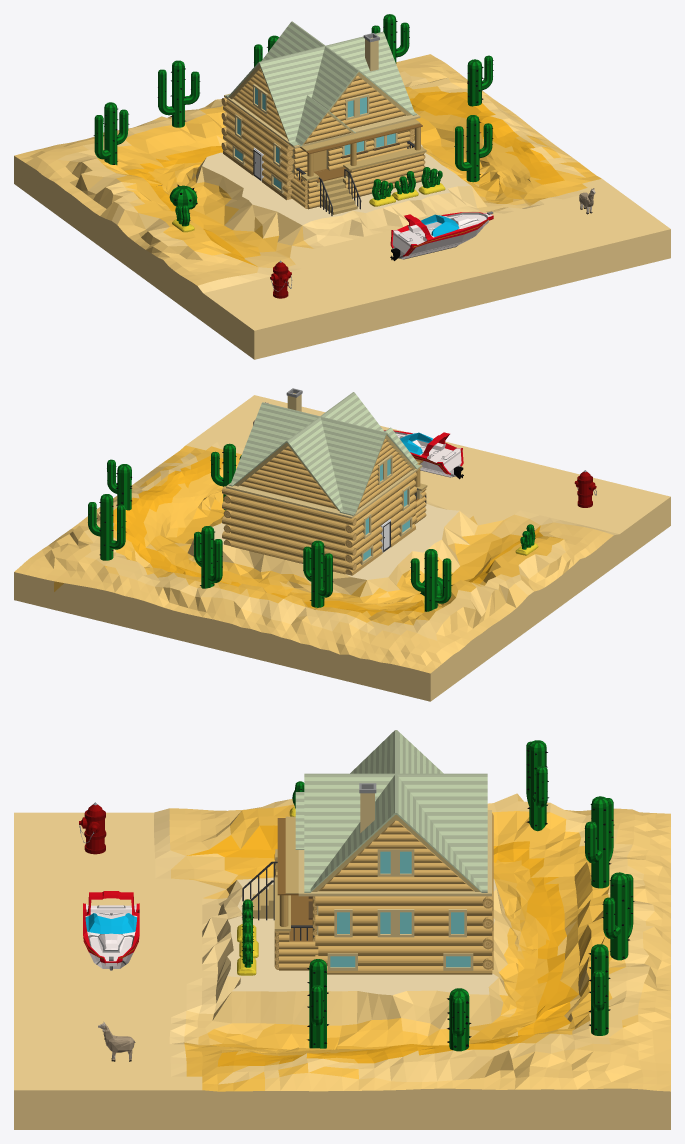
3 renders of one model, top to bottom at view 1: azimuth 30°, elevation 25°; view 2: azimuth 150°, elevation 25°; view 3: azimuth 270°, elevation 25°, orthographic. The views are drawn at different scales.
Parts seen in each view (by area): view 1: Cube.001, Cube.1516, VEHICLES_BOAT, Cylinder.037, Cylinder.044, Cylinder.045, Cylinder.038, Cylinder.042, OBJRANDOM_FIRE_HYDRANT, Cylinder.039, Cylinder.041, Sphere.023 (+1 smaller); view 2: Cube.001, Cube.1516, VEHICLES_BOAT, Cylinder.042, Cylinder.045, Cylinder.044, Cylinder.043, Cylinder.038, Cylinder.037, OBJRANDOM_FIRE_HYDRANT; view 3: Cube.001, Cube.1516, VEHICLES_BOAT, Cylinder.043, Cylinder.044, Cylinder.045, Cylinder.042, Cylinder.037, Cylinder.038, OBJRANDOM_FIRE_HYDRANT, ANIMAL_LLAMA, Cylinder.041.
Boxes of the visible parts, x1=… form: Cube.001: x1=14, y1=54, x2=670, y2=359; Cube.1516: x1=221, y1=21, x2=426, y2=215; VEHICLES_BOAT: x1=390, y1=211, x2=493, y2=260; Cylinder.037: x1=454, y1=115, x2=493, y2=182; Cylinder.044: x1=157, y1=60, x2=200, y2=127; Cylinder.045: x1=93, y1=102, x2=129, y2=164; Cylinder.038: x1=467, y1=55, x2=493, y2=106; Cylinder.042: x1=371, y1=14, x2=409, y2=63; OBJRANDOM_FIRE_HYDRANT: x1=270, y1=260, x2=292, y2=298; Cylinder.039: x1=369, y1=179, x2=395, y2=206; Cylinder.041: x1=418, y1=167, x2=445, y2=194; Sphere.023: x1=169, y1=184, x2=197, y2=209; Cube.001: x1=14, y1=395, x2=670, y2=701; Cube.1516: x1=222, y1=388, x2=427, y2=575; VEHICLES_BOAT: x1=384, y1=430, x2=463, y2=479; Cylinder.042: x1=88, y1=494, x2=126, y2=560; Cylinder.045: x1=410, y1=549, x2=452, y2=611; Cylinder.044: x1=303, y1=540, x2=333, y2=607; Cylinder.043: x1=193, y1=526, x2=222, y2=588; Cylinder.038: x1=107, y1=459, x2=131, y2=510; Cylinder.037: x1=210, y1=443, x2=241, y2=510; OBJRANDOM_FIRE_HYDRANT: x1=574, y1=470, x2=596, y2=507; Cube.001: x1=14, y1=793, x2=670, y2=1129; Cube.1516: x1=242, y1=730, x2=493, y2=974; VEHICLES_BOAT: x1=83, y1=891, x2=139, y2=970; Cylinder.043: x1=602, y1=872, x2=634, y2=960; Cylinder.044: x1=584, y1=796, x2=614, y2=888; Cylinder.045: x1=526, y1=740, x2=548, y2=831; Cylinder.042: x1=588, y1=944, x2=610, y2=1035; Cylinder.037: x1=307, y1=959, x2=328, y2=1048; Cylinder.038: x1=447, y1=988, x2=471, y2=1051; OBJRANDOM_FIRE_HYDRANT: x1=79, y1=802, x2=106, y2=854; ANIMAL_LLAMA: x1=98, y1=1022, x2=135, y2=1061; Cylinder.041: x1=237, y1=932, x2=256, y2=975.
Bounding box in the file's own units: 4002 × 1627 × 4001.
32 materials, 3 textured.
